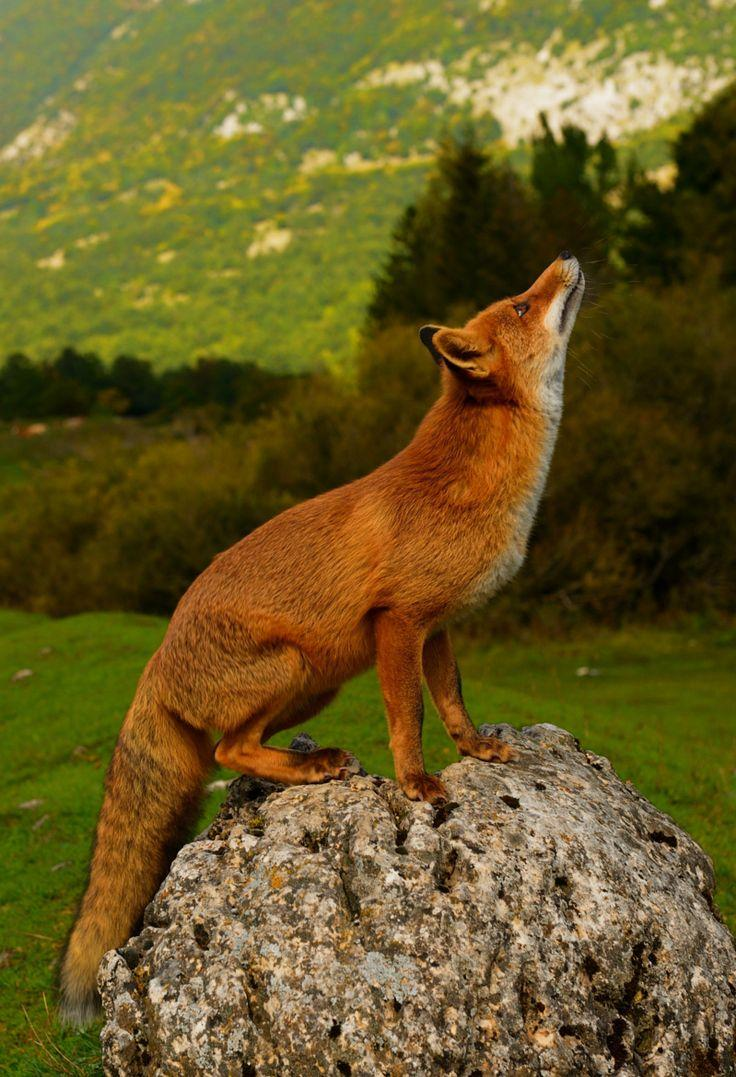fox: (58, 242, 592, 963)
